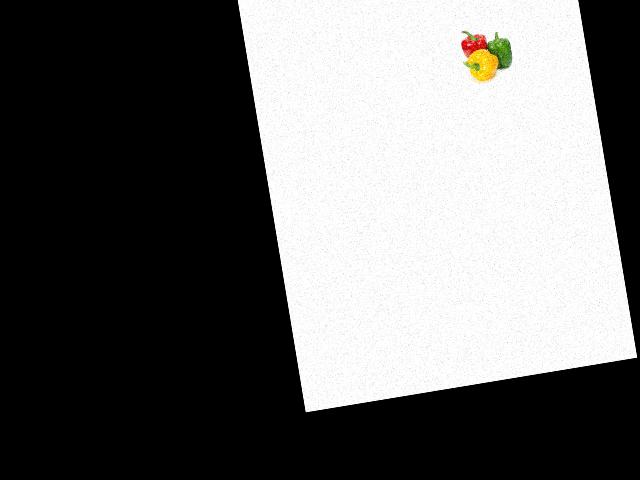bell_pepper: (454, 23, 493, 63)
